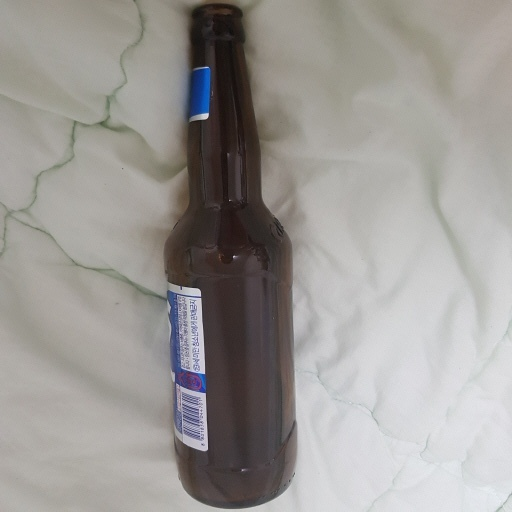Glass_1: (161, 4, 293, 511)
